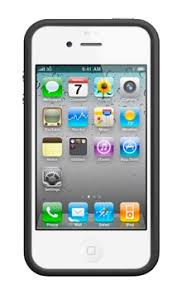iphone: (20, 13, 163, 277)
iphone4: (19, 13, 162, 277)
